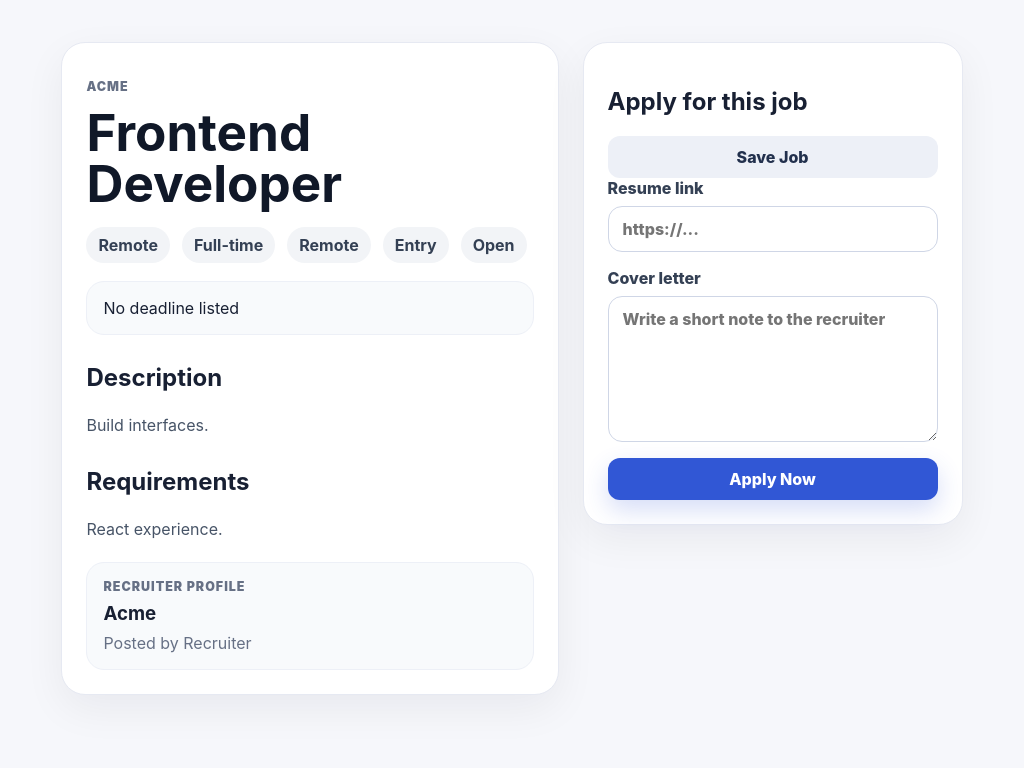
Test: frontend flows › applies to a job with resume link and cover letter
expect the heading "Frontend Developer" is shown: met, box [86, 101, 342, 214]
Type "https://example.com/resume.pdf" into the field labelled "Resume link" at (773, 229), box [608, 206, 938, 252]
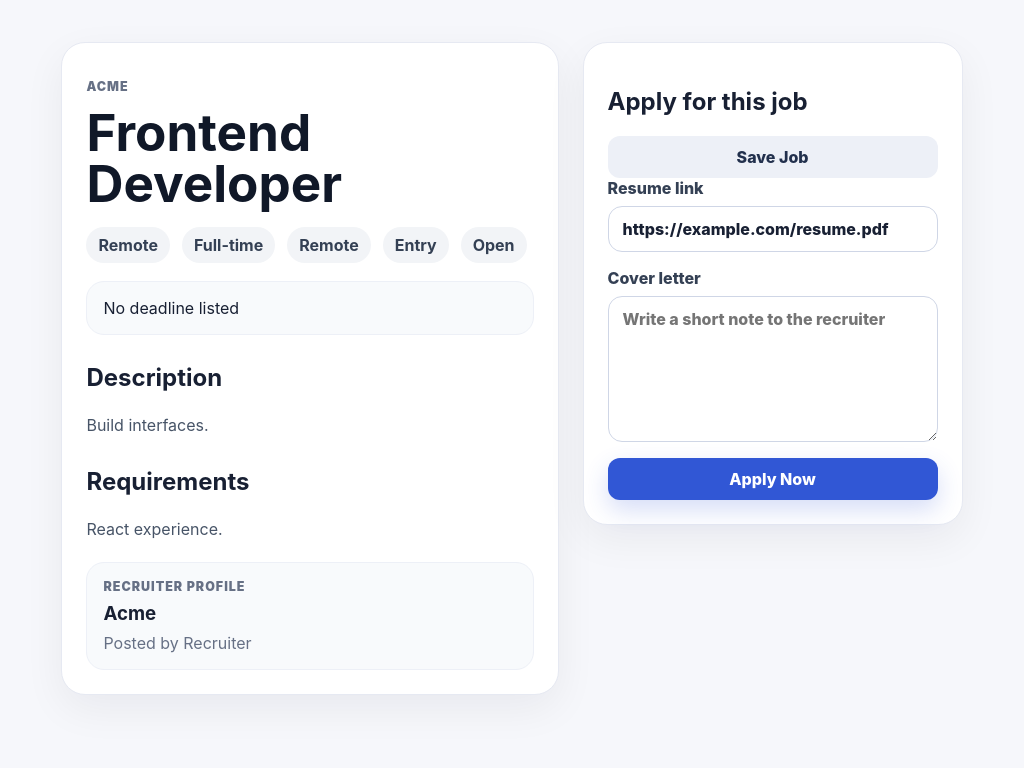
Type "I can help build polished interfaces." into the text box labelled "Cover letter" at (773, 369), box [608, 296, 938, 442]
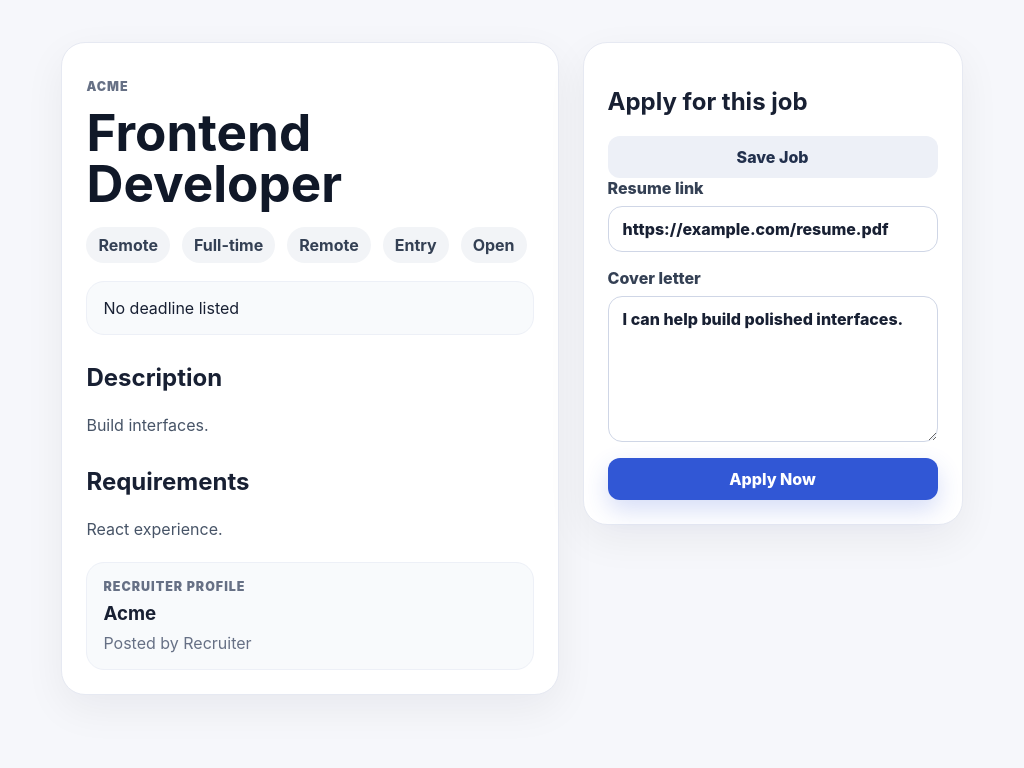
Click the button "Apply Now" at (773, 479), box [608, 458, 938, 500]
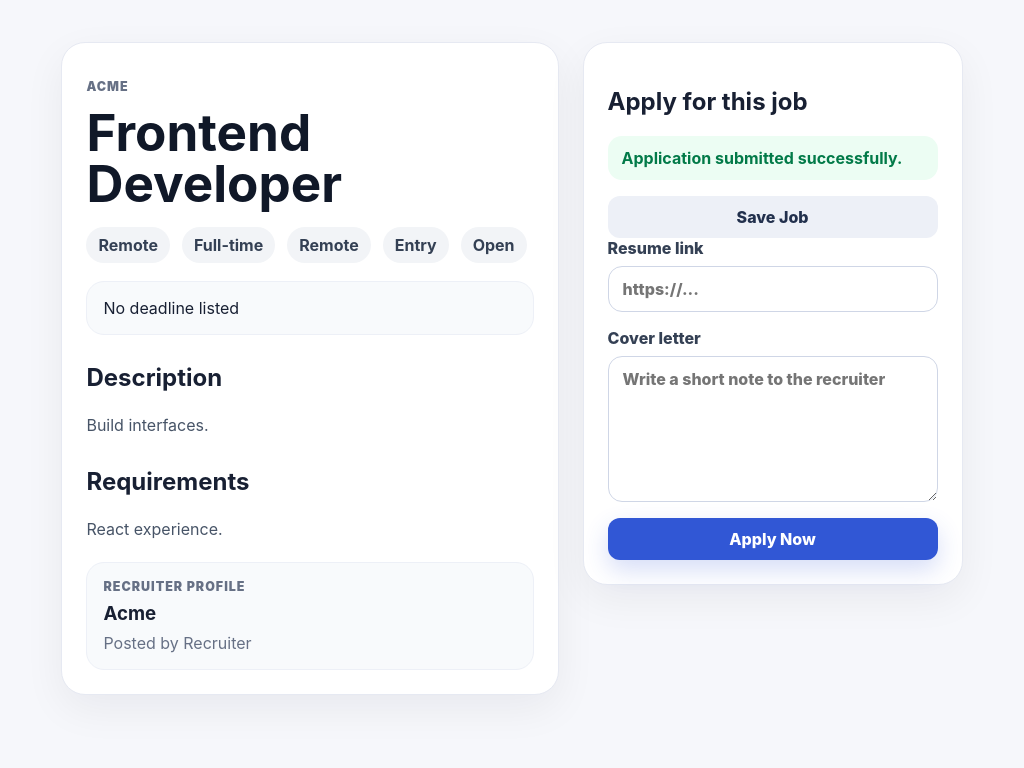
expect the text "Application submitted successfully." is shown: met, box [608, 136, 938, 180]
